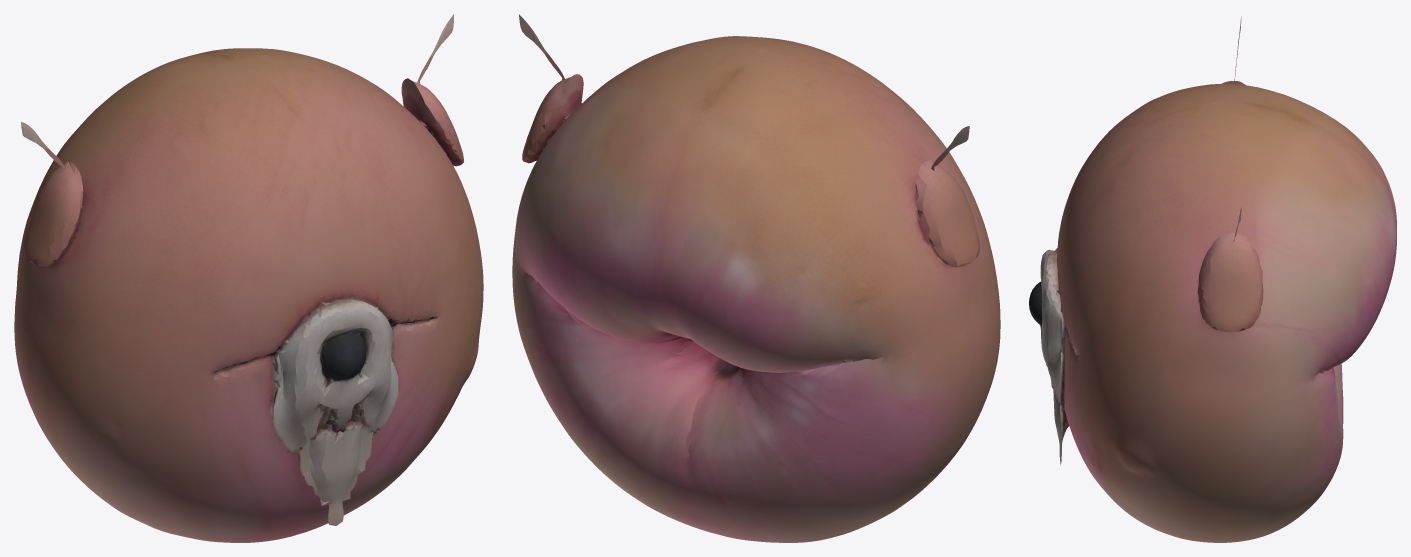
File: gdv_twisted_stomach.glb
The picture shows the model from 3 angles, left to right: view 1: azimuth 30°, elevation 25°; view 2: azimuth 150°, elevation 25°; view 3: azimuth 270°, elevation 25°; orthographic projection. The views are drawn at different scales.
Visible parts, largest first — view 1: model; view 2: model; view 3: model.
Part boxes in pixels (x1=…): model: x1=14, y1=14, x2=483, y2=542; model: x1=512, y1=14, x2=1000, y2=542; model: x1=1029, y1=16, x2=1396, y2=542.
Size of the model in its own units: 1.7 by 1.7 by 1.36.
1 material, 1 textured.
